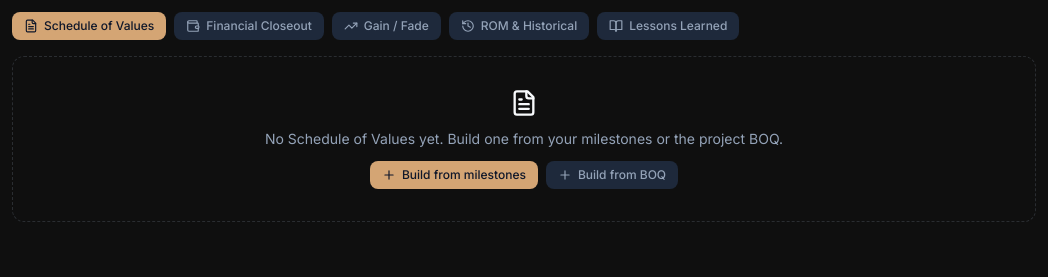
CloseoutPanel › builds SOV from milestones and shows released totals
Click the button "Build from milestones" at {"x": 454, "y": 175}, box [370,161,538,189]
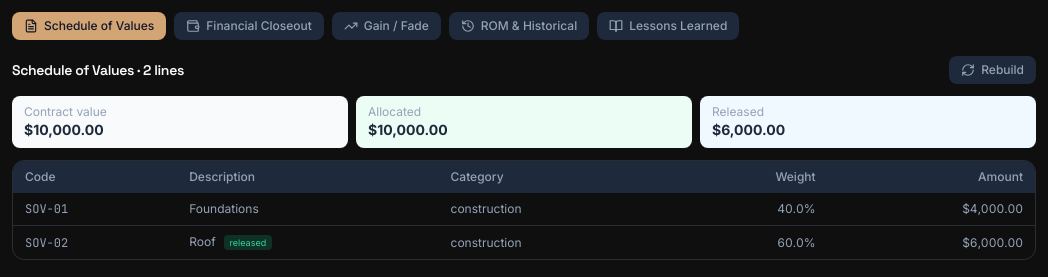
Result: the heading "Schedule of Values · 2 lines" is shown at [12,60,184,80]
Result: the text "Foundations" is shown at [177,193,438,226]
Result: the text "$4,000.00" is shown at [828,193,1035,226]
